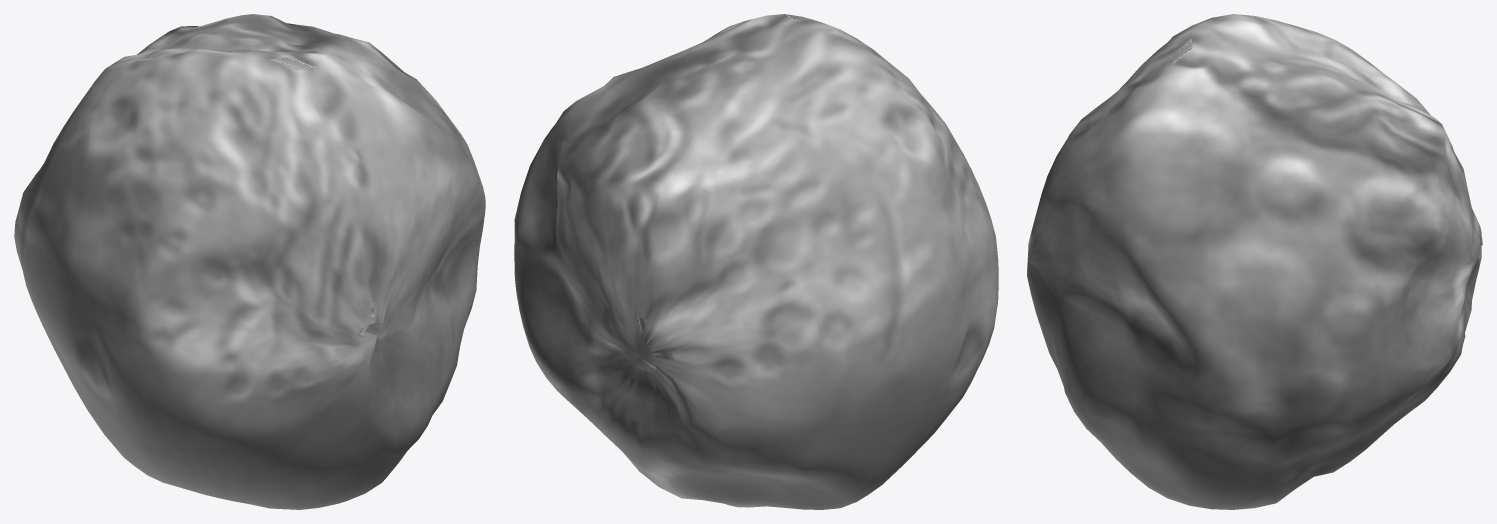
File: n8proteus_MLfix.obj
3 renders of one model, left to right at view 1: azimuth 30°, elevation 25°; view 2: azimuth 150°, elevation 25°; view 3: azimuth 270°, elevation 25°, orthographic. The views are drawn at different scales.
Size of the model in its own units: 398 by 437 by 411.
1 material, 1 textured.
